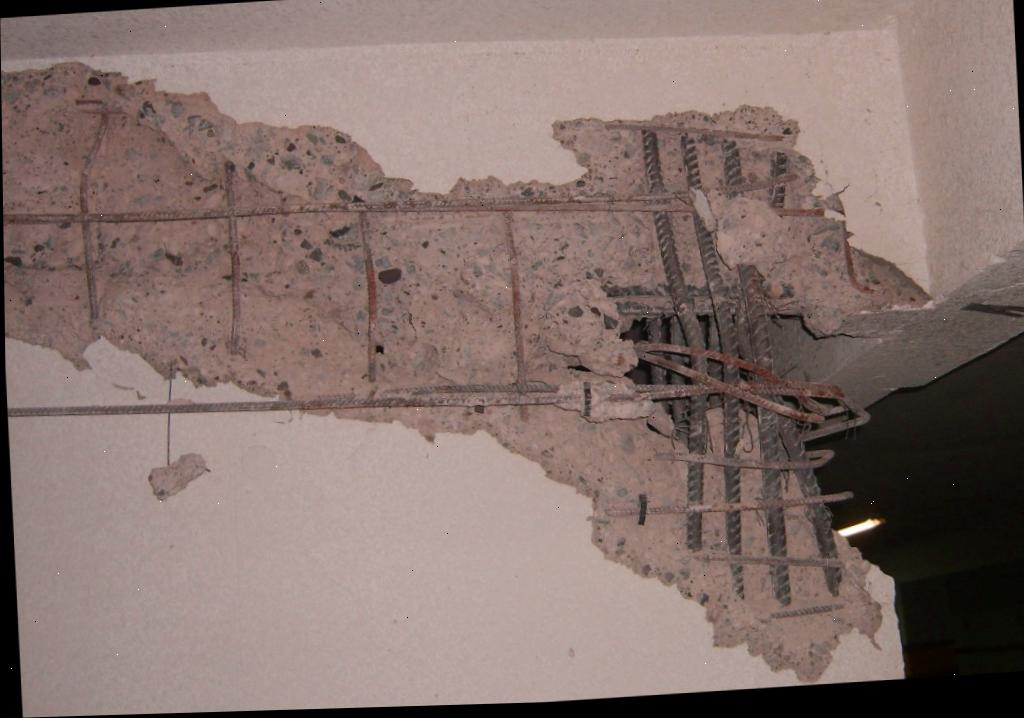exposed_rebar: (3, 107, 691, 393), (638, 134, 860, 606), (7, 382, 570, 418), (644, 130, 666, 194), (721, 139, 744, 186), (763, 184, 785, 209), (771, 152, 787, 175)
spalling: (1, 61, 932, 684), (149, 454, 209, 500)
